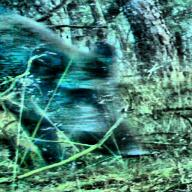boar: (0, 0, 186, 171)
